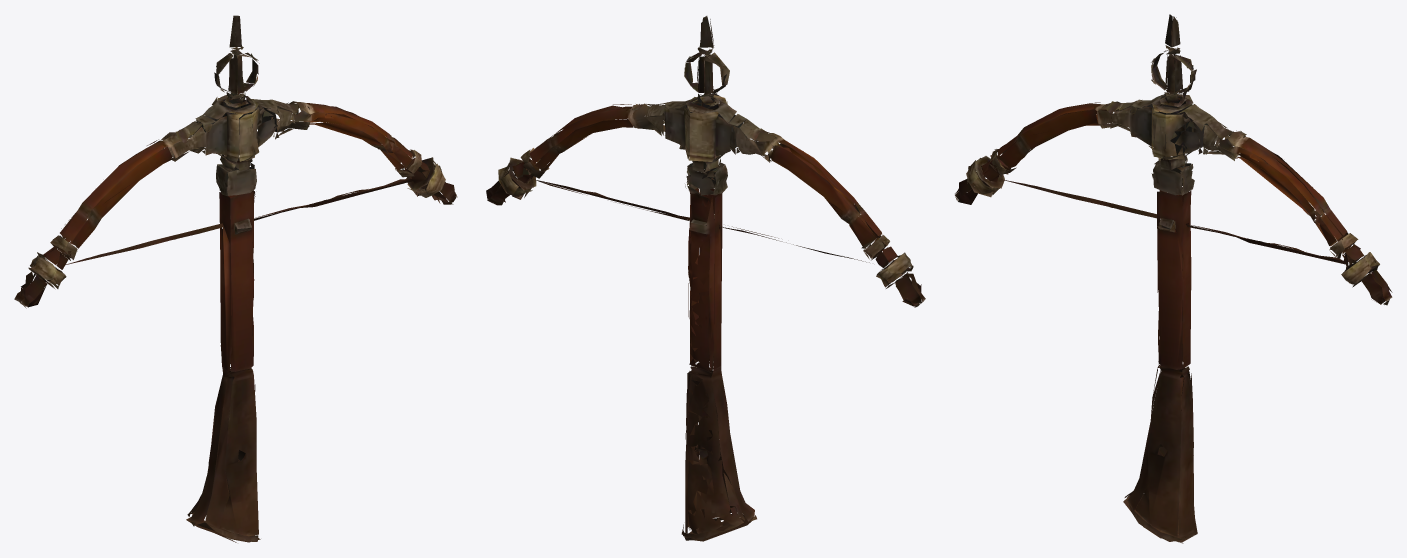
File: crossbow-v1.glb
The picture shows the model from 3 angles, left to right: view 1: azimuth 30°, elevation 25°; view 2: azimuth 150°, elevation 25°; view 3: azimuth 330°, elevation 25°; orthographic projection.
Parts seen in each view (by area): view 1: WeaponDrawn; view 2: WeaponDrawn; view 3: WeaponDrawn.
Boxes of the visible parts, bbox=[...] form: WeaponDrawn: bbox=[14, 15, 457, 542]; WeaponDrawn: bbox=[486, 16, 925, 541]; WeaponDrawn: bbox=[955, 14, 1392, 543].
Size of the model in its own units: 0.8735 by 0.9958 by 0.0971.
Materials: 1 (1 with a texture image).
